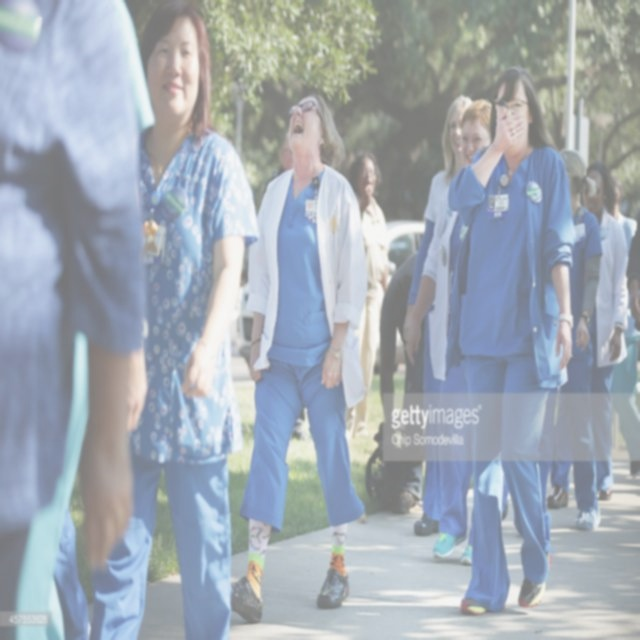pessoa: (73, 0, 260, 639), (444, 58, 579, 620), (230, 91, 370, 627), (404, 97, 510, 569), (543, 154, 633, 514), (402, 92, 474, 539), (554, 147, 604, 532), (260, 130, 312, 446), (342, 146, 392, 444), (379, 251, 427, 515), (610, 173, 640, 482), (47, 496, 92, 640), (624, 200, 640, 334)
